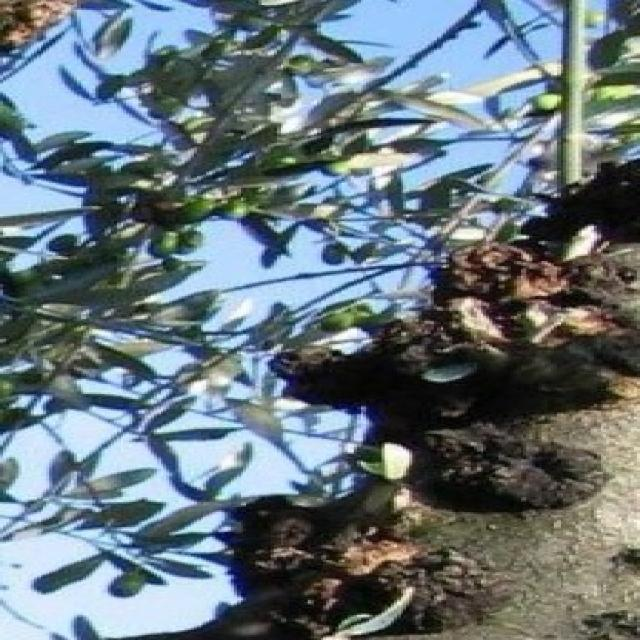Tuberculosis: (271, 241, 637, 419), (212, 486, 490, 638), (424, 422, 606, 510)
